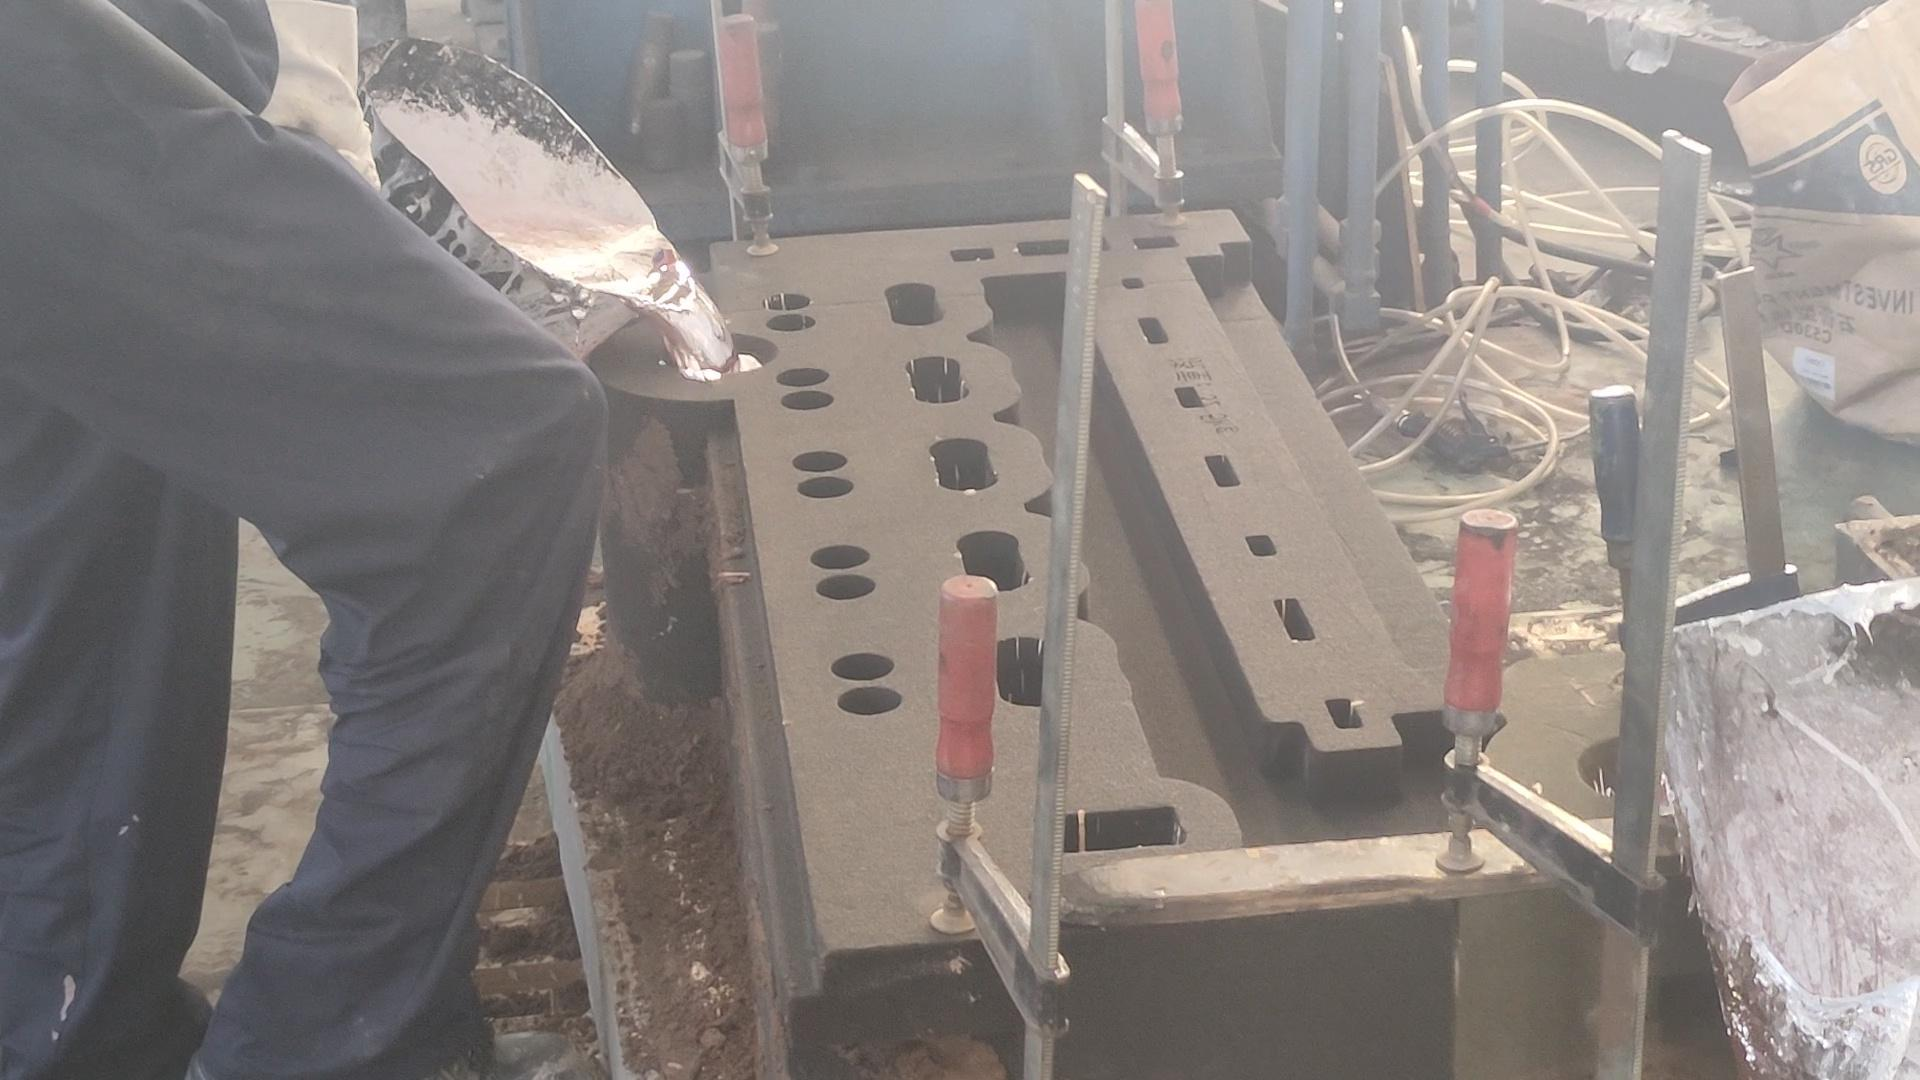pouring hole: (1578, 731, 1691, 795), (666, 332, 777, 373)
